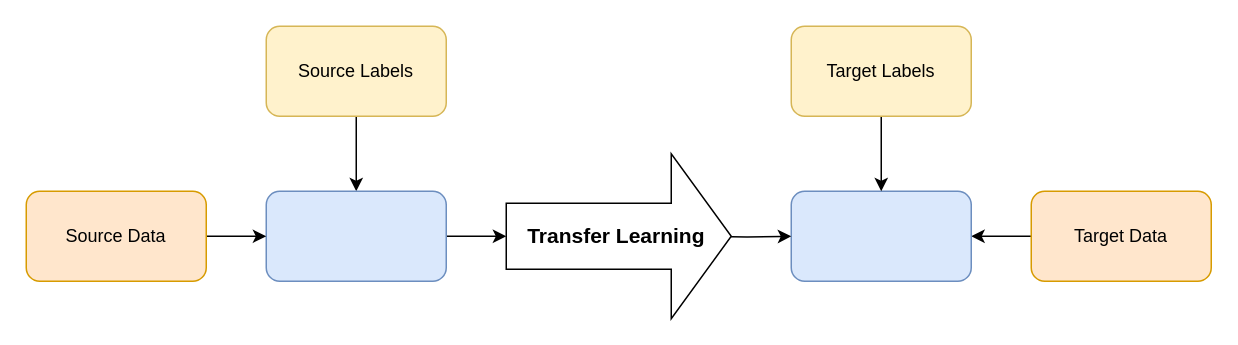
The diagram is 1238 pixels wide and 345 high, and some of its shapes have lost their labels. The box of each missing label's shape, as (x1, y1, x2, y2) in pixels:
Source Models: (265, 190, 446, 281)
Target Model: (790, 190, 971, 281)
